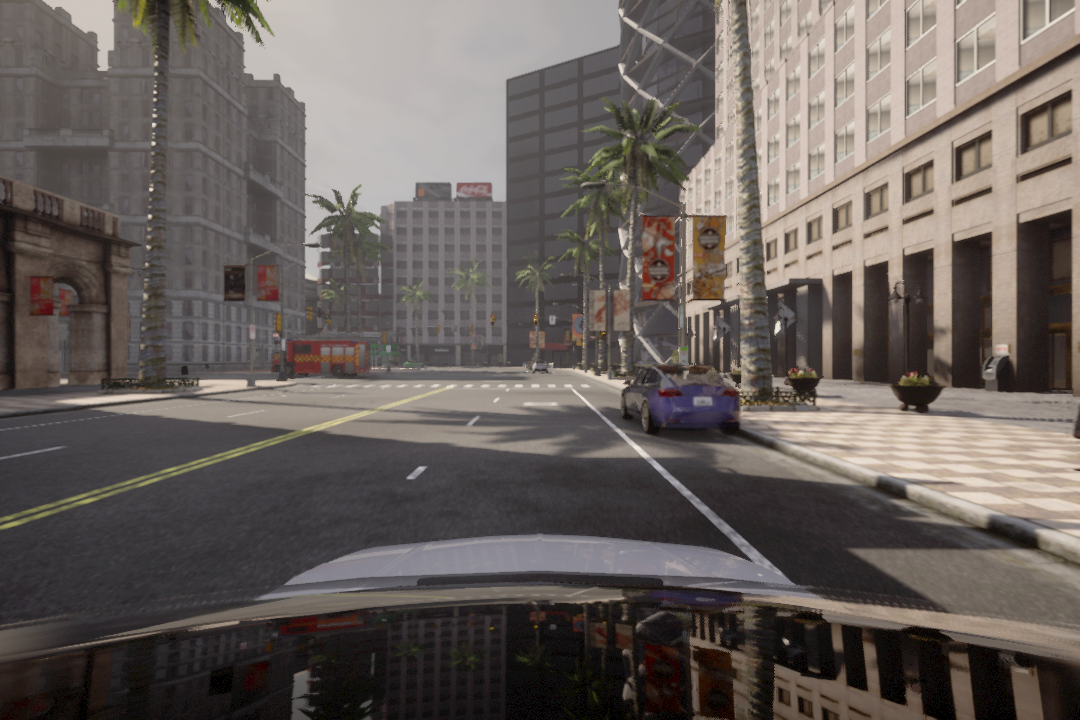walkside: (290, 381, 612, 392)
